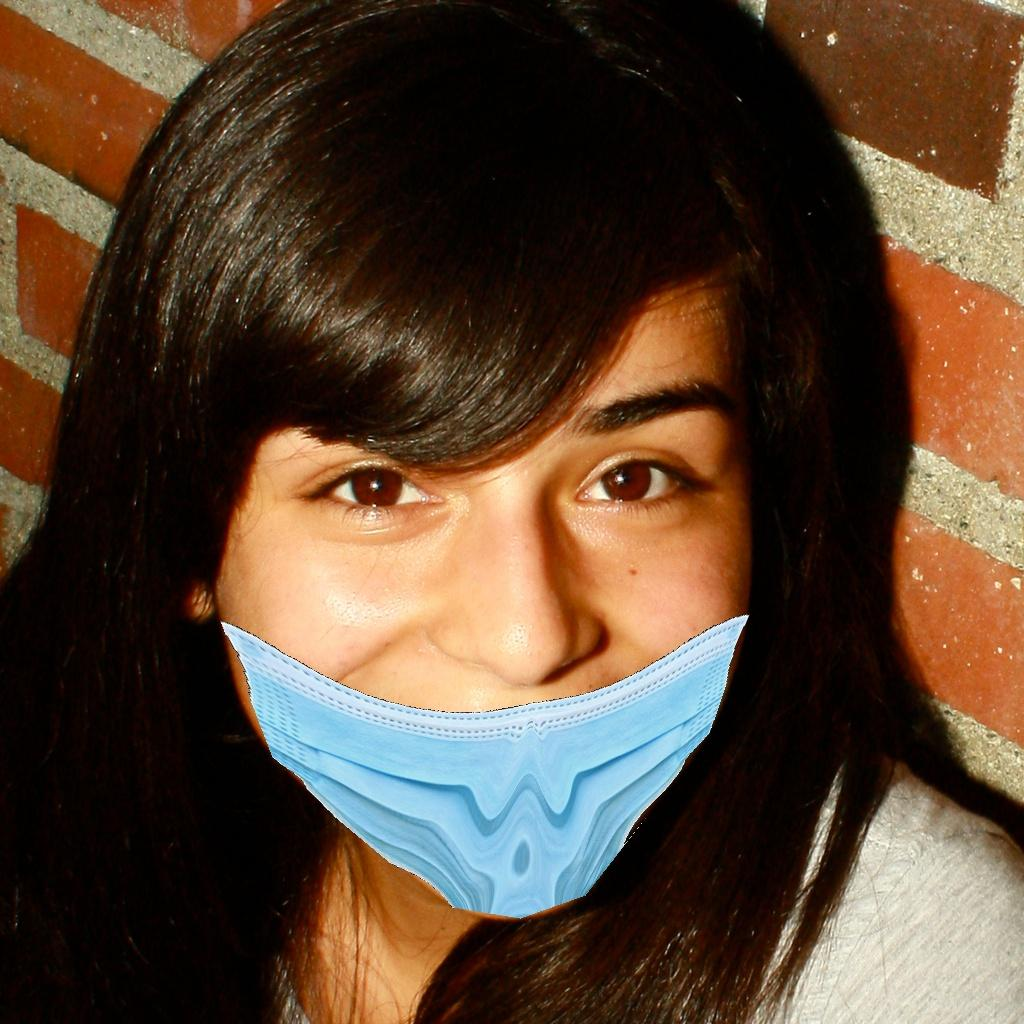Máscara Incorreta: (166, 383, 763, 874)
